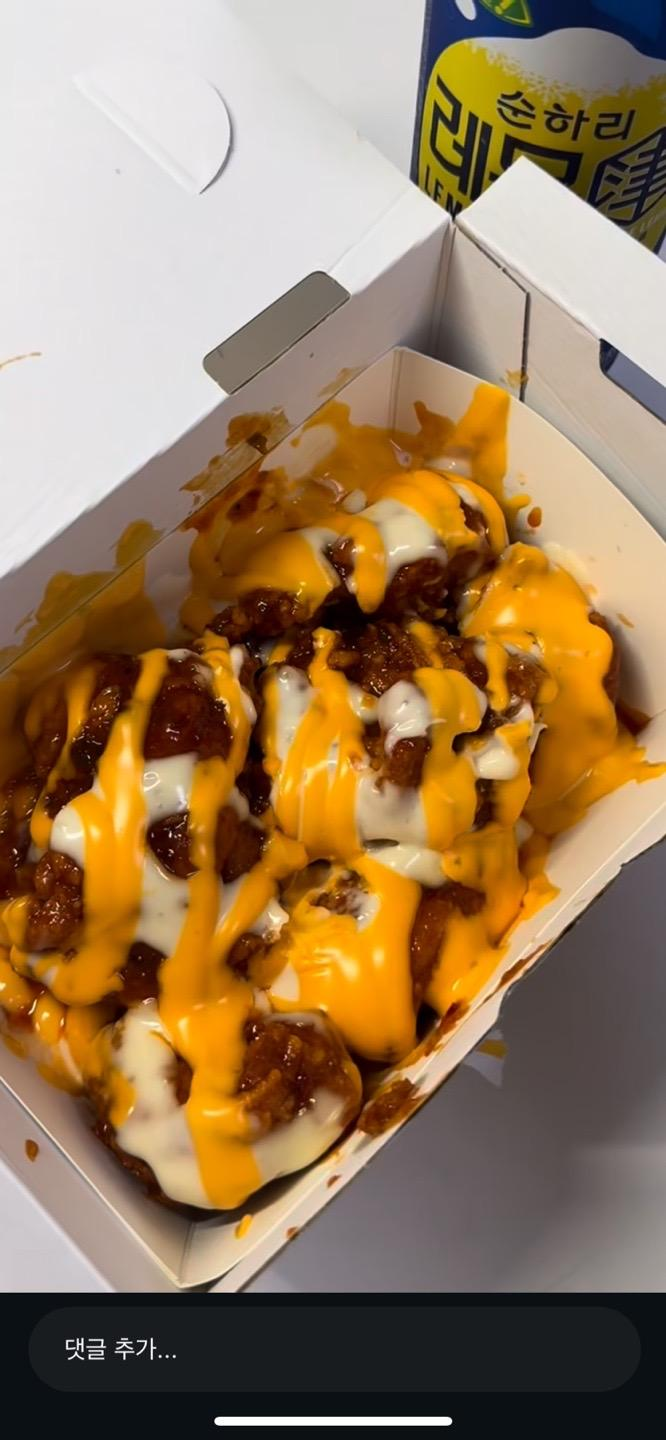Bottle: (413, 0, 665, 247)
Lunch Box: (0, 0, 665, 1291)
